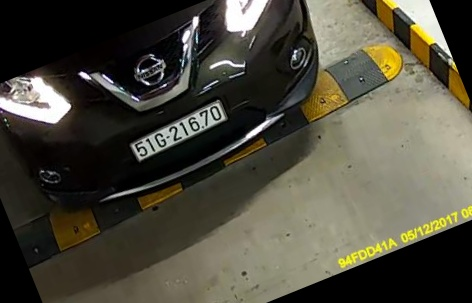plate: (125, 97, 225, 168)
